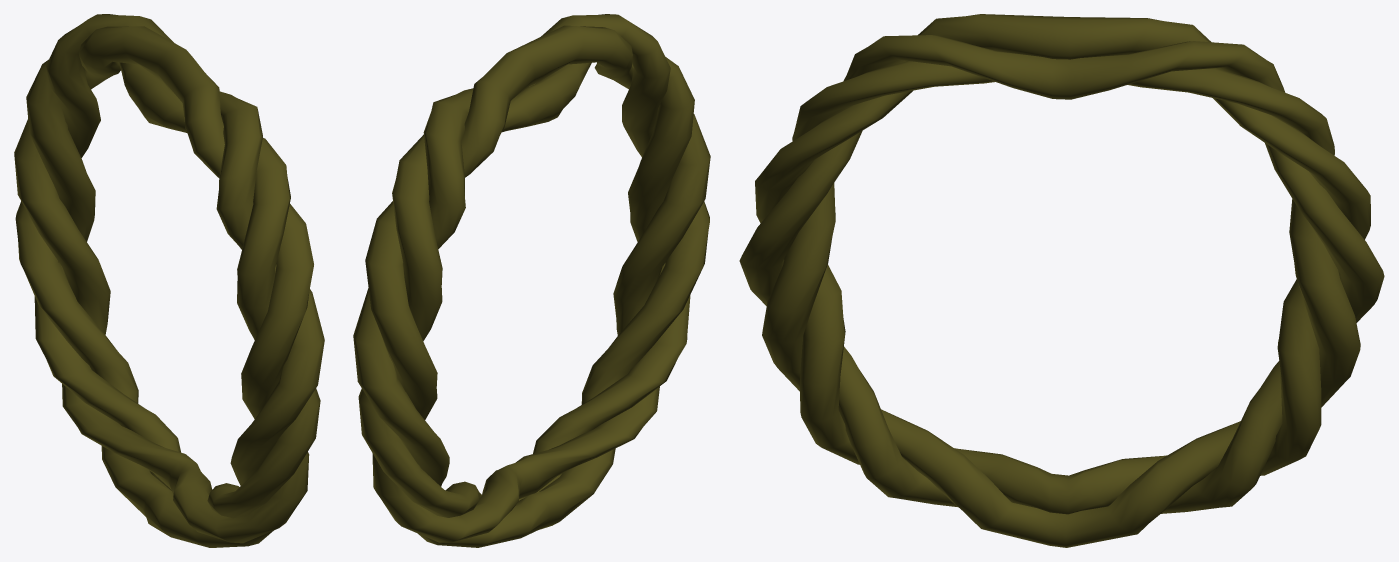
Rendered from rope.fbx.
3 views of the same model, side by side, from view 1: azimuth 30°, elevation 25°; view 2: azimuth 150°, elevation 25°; view 3: azimuth 270°, elevation 25° (orthographic). The views are drawn at different scales.
Visible parts, largest first — view 1: Box068; view 2: Box068; view 3: Box068.
Boxes of the visible parts, box(x1,y1,x2,y2) form: Box068: box(14, 14, 324, 547); Box068: box(353, 14, 710, 547); Box068: box(739, 14, 1384, 547).
Bounding box in the file's own units: 21.45 × 99.79 × 112.
